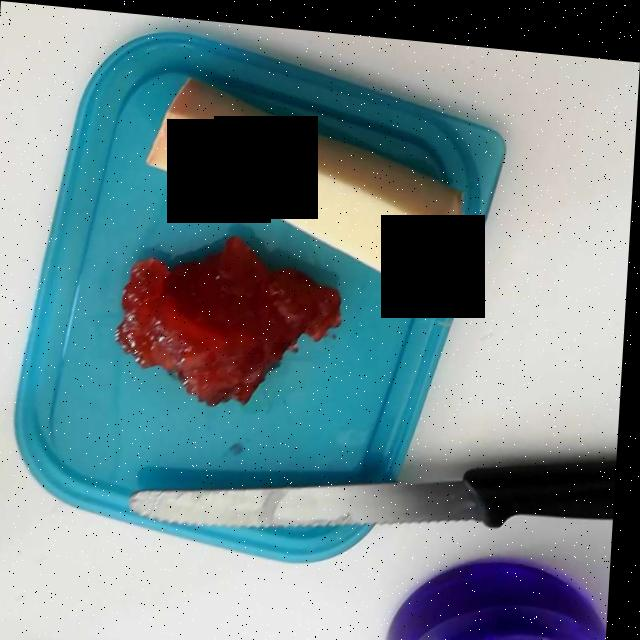hard-cheese: (155, 87, 470, 278)
jam: (122, 230, 342, 397)
